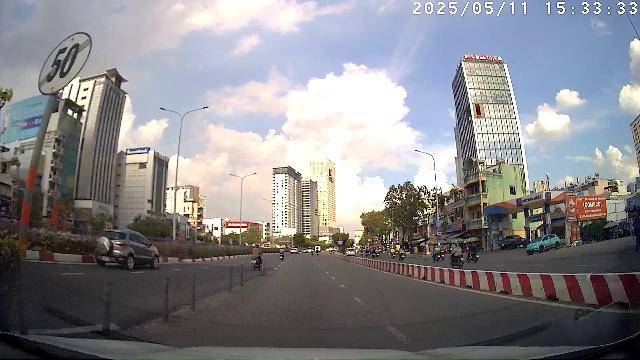134-het-han-che-toc-do-toi-da: (38, 30, 93, 95)
